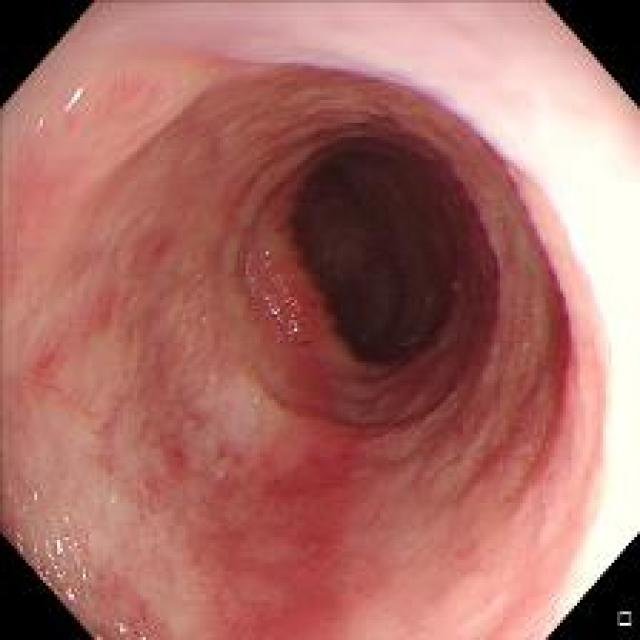blur: (101, 84, 539, 552)
color misalignment: (214, 46, 515, 154), (508, 164, 580, 471), (245, 258, 300, 330), (28, 540, 54, 589), (58, 95, 78, 115), (64, 582, 82, 602), (31, 115, 49, 134), (12, 530, 26, 552)
contrast: (295, 142, 475, 370)
saturation: (482, 29, 638, 600)
specularity: (12, 499, 91, 604), (244, 254, 301, 332), (35, 86, 81, 122), (100, 621, 146, 636)
